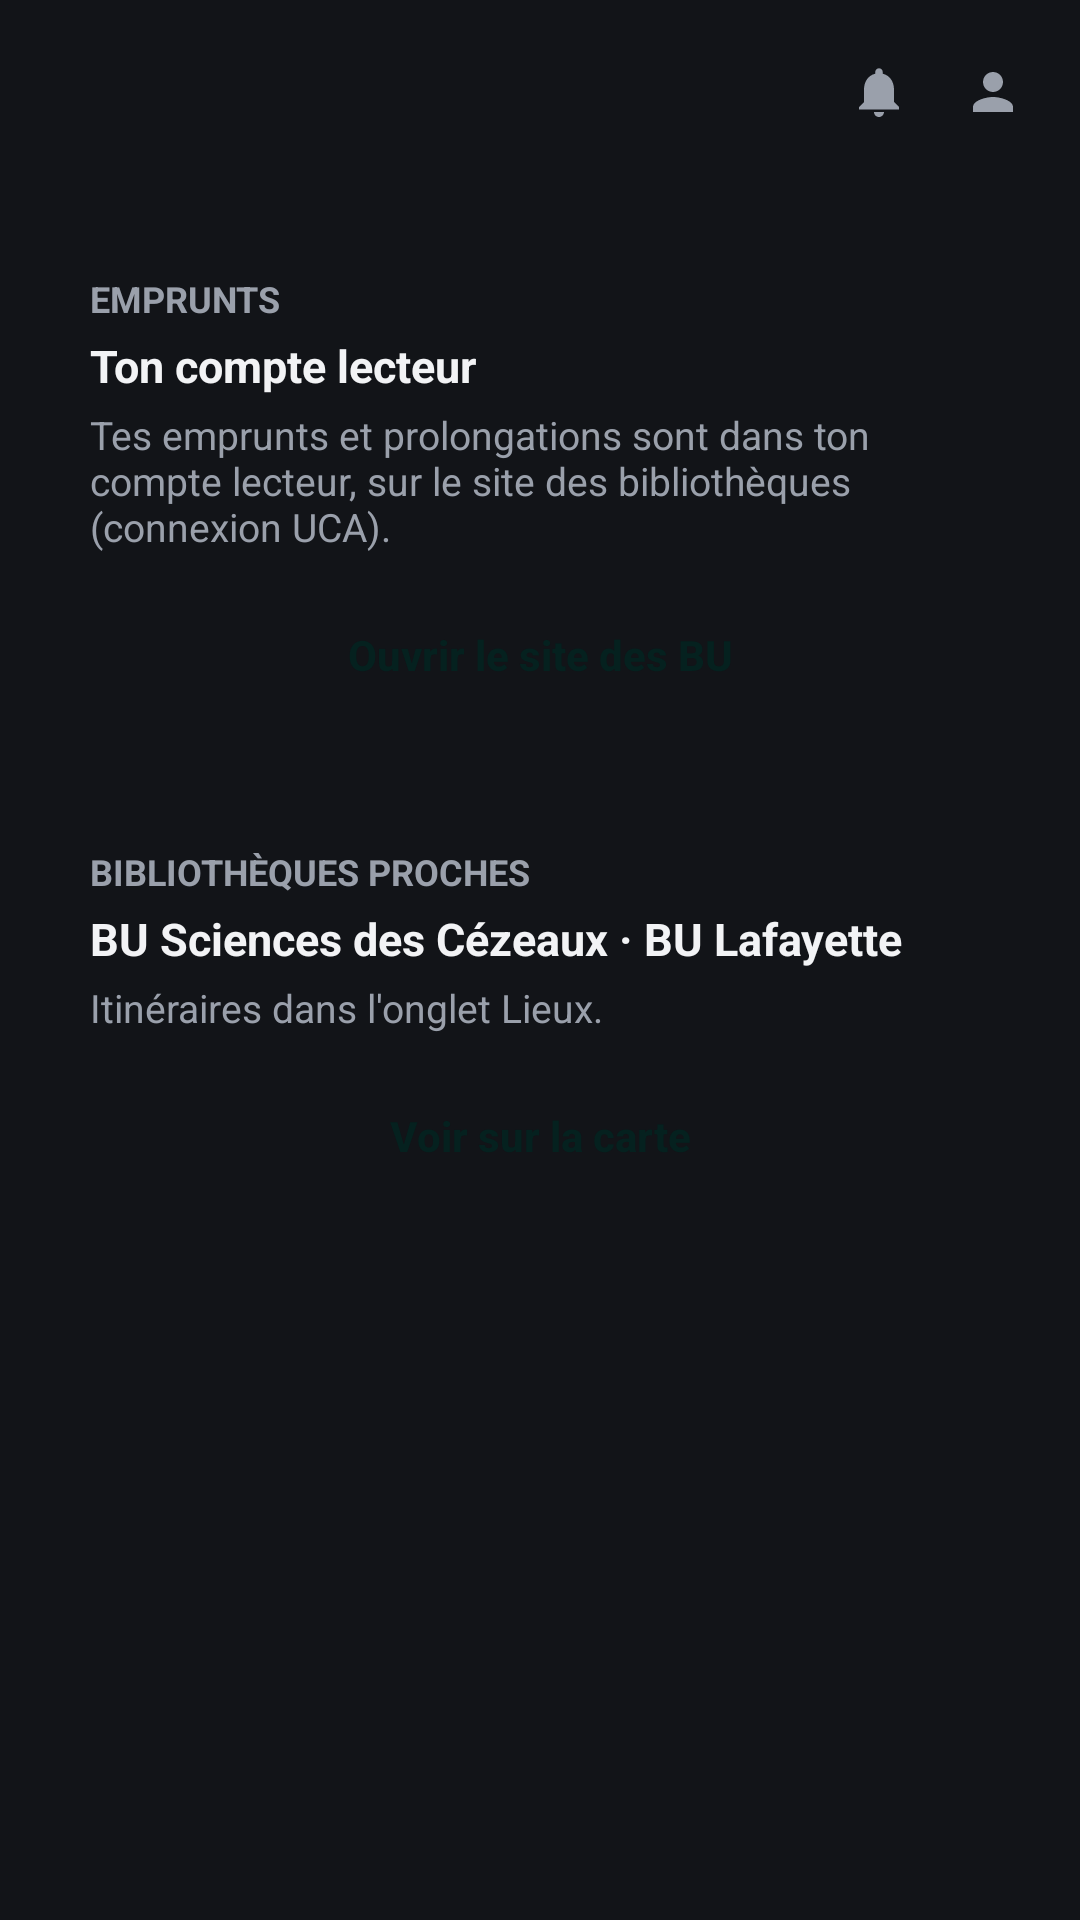

Icon click points for this 1080 x 1920 phone screenshot, format (x,y):
Notifications: (879,92)
Profil: (993,92)
